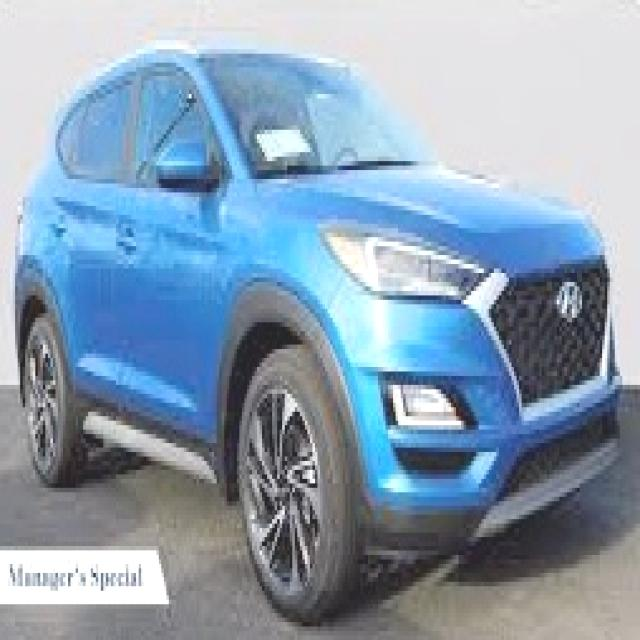blue: (13, 39, 622, 550)
